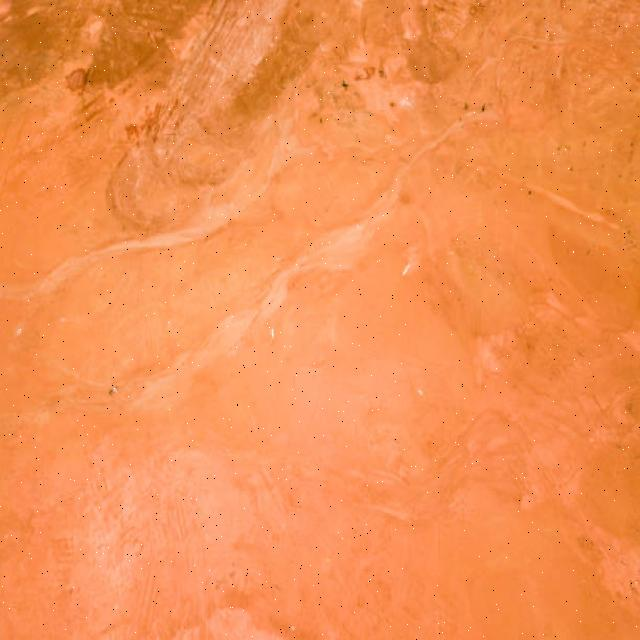Sedimentary: (1, 1, 640, 638)
